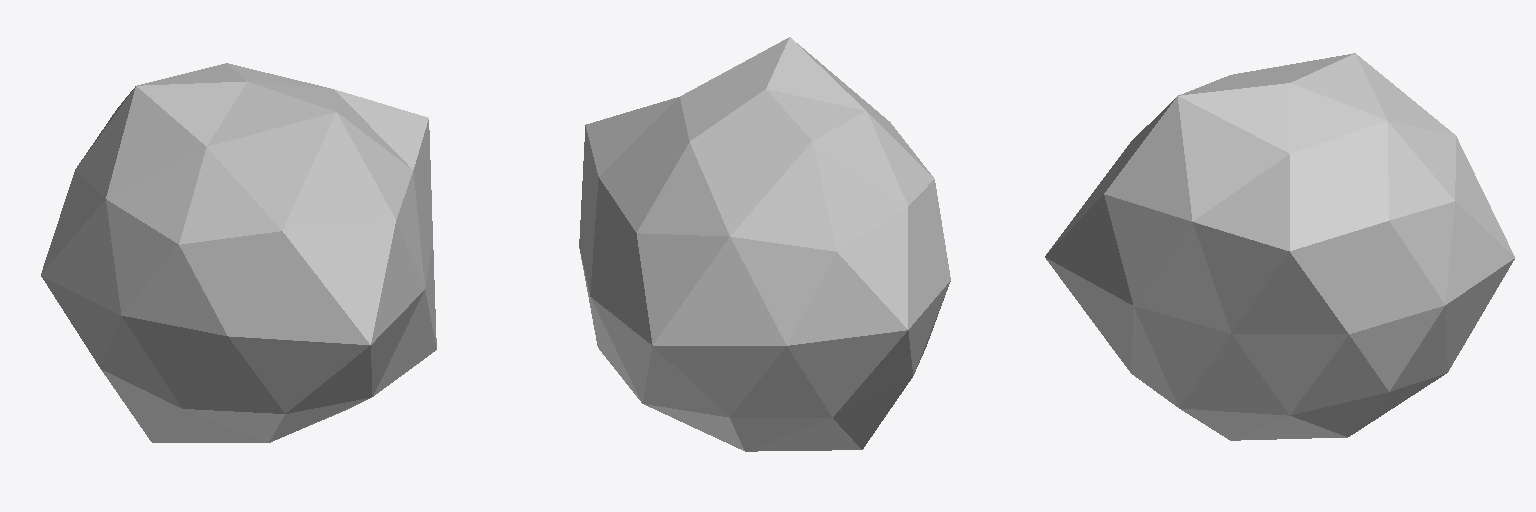
Rendered from asteroide1.obj.
3 views of the same model, side by side, from view 1: azimuth 30°, elevation 25°; view 2: azimuth 150°, elevation 25°; view 3: azimuth 270°, elevation 25° (orthographic).
Parts seen in each view (by area): view 1: Icosphere; view 2: Icosphere; view 3: Icosphere.
Part boxes in pixels (x1,y1,x2,y2): Icosphere: (41,63,436,442); Icosphere: (579,37,950,451); Icosphere: (1045,53,1514,440).
Bounding box in the file's own units: 2.17 × 2.04 × 2.49.